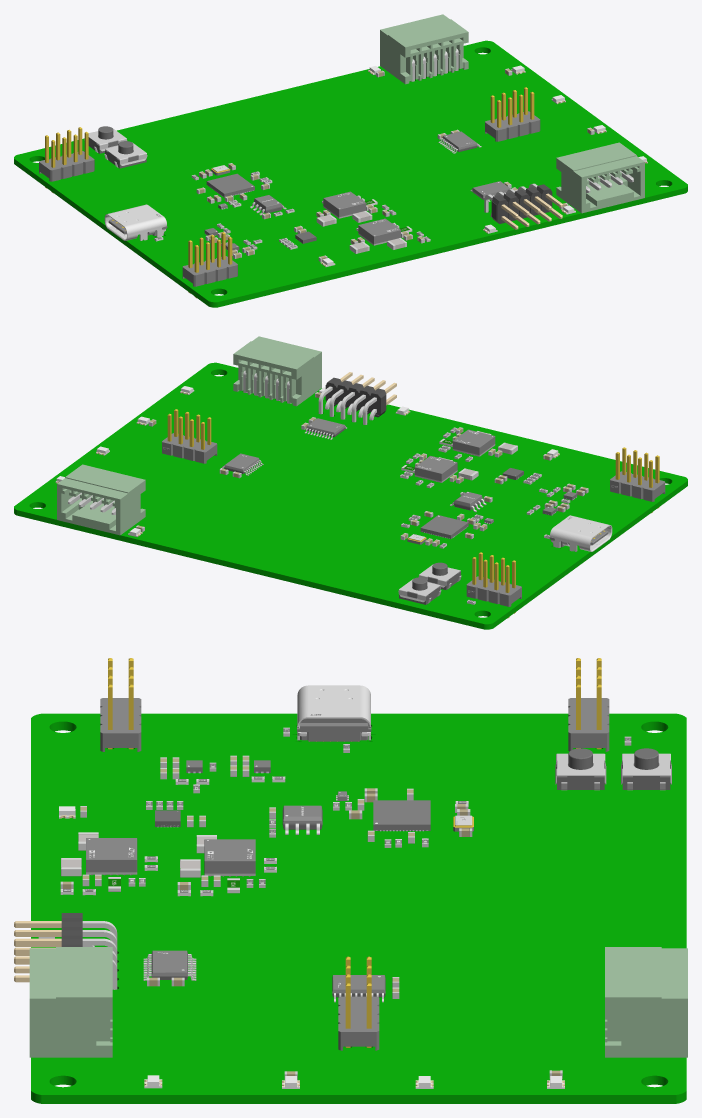
Rendered from BugBuster_HAT.glb.
3 renders of one model, top to bottom at view 1: azimuth 30°, elevation 25°; view 2: azimuth 150°, elevation 25°; view 3: azimuth 270°, elevation 25°, orthographic. The views are drawn at different scales.
Visible parts, largest first — view 1: Node17, Node9, Node6, Node23, Node4, Node1, Node25, Node5, Node28, Node26, Node10, Node16 (+3 smaller); view 2: Node17, Node9, Node6, Node23, Node4, Node1, Node5, Node25, Node27, Node28, Node16, Node10 (+3 smaller); view 3: Node17, Node9, Node6, Node4, Node1, Node5, Node23, Node16, Node10, Node26, Node28, Node3 (+4 smaller).
Boxes of the visible parts, x1,y1,x2,y2 form: Node17: (14,40,687,307); Node9: (380,14,644,213); Node6: (39,111,540,286); Node23: (45,87,534,298); Node4: (104,138,505,245); Node1: (84,68,594,262); Node25: (491,184,552,223); Node5: (156,171,429,250); Node28: (198,69,593,261); Node26: (501,193,562,229); Node10: (104,142,412,258); Node16: (88,126,146,168); Node17: (14,362,687,629); Node9: (57,336,321,535); Node6: (162,418,665,606); Node23: (167,409,659,618); Node4: (220,426,612,551); Node1: (136,392,570,604); Node5: (401,428,577,602); Node25: (325,377,386,417); Node27: (318,386,376,424); Node28: (137,392,586,545); Node16: (399,562,460,604); Node10: (415,433,588,588); Node17: (31,713,686,1103); Node9: (29,947,687,1057); Node6: (86,698,609,1050); Node4: (90,685,472,1002); Node1: (60,727,671,1080); Node5: (63,728,631,892); Node23: (108,658,601,1047); Node16: (556,748,670,789); Node10: (82,753,606,886); Node26: (14,921,61,982); Node28: (63,756,560,1075); Node3: (64,729,629,1088).
Size of the model in its own units: 111 by 11.85 by 82.02.
